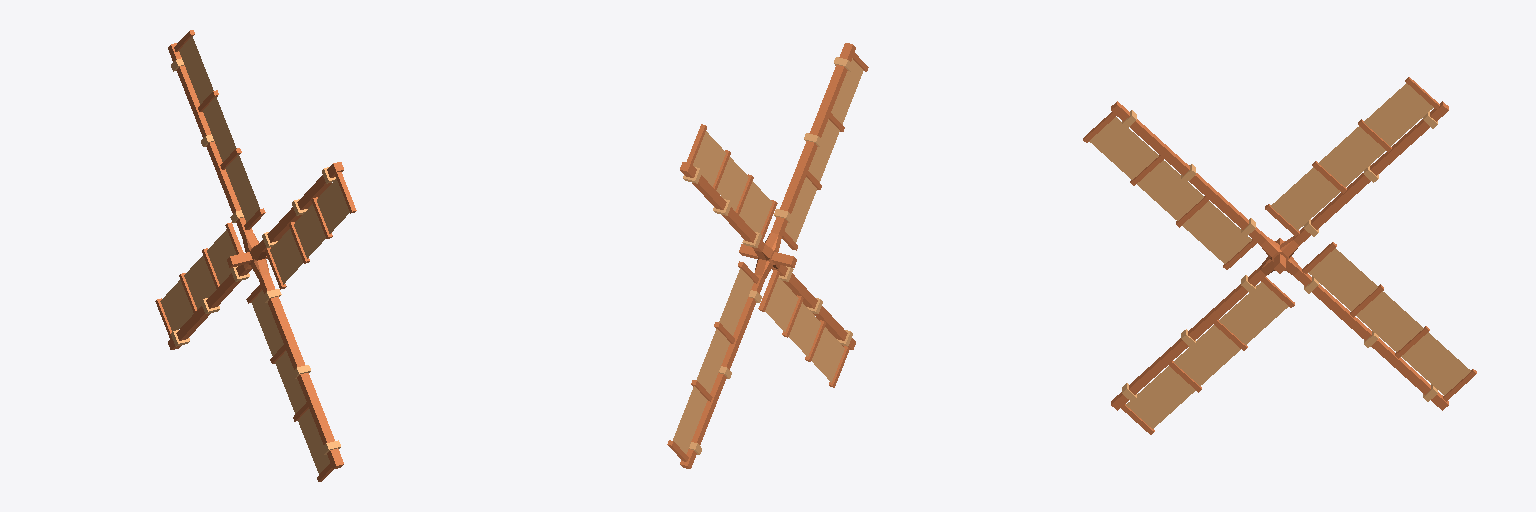
File: windmill.obj
The picture shows the model from 3 angles: view 1: azimuth 30°, elevation 25°; view 2: azimuth 150°, elevation 25°; view 3: azimuth 270°, elevation 25°; orthographic projection.
Parts seen in each view (by area): view 1: windmill; view 2: windmill; view 3: windmill.
Boxes of the visible parts, x1,y1,x2,y2 form: windmill: [155, 30, 356, 481]; windmill: [667, 43, 868, 468]; windmill: [1083, 77, 1476, 434].
Bounding box in the file's own units: 0.472 × 3.07 × 3.07.